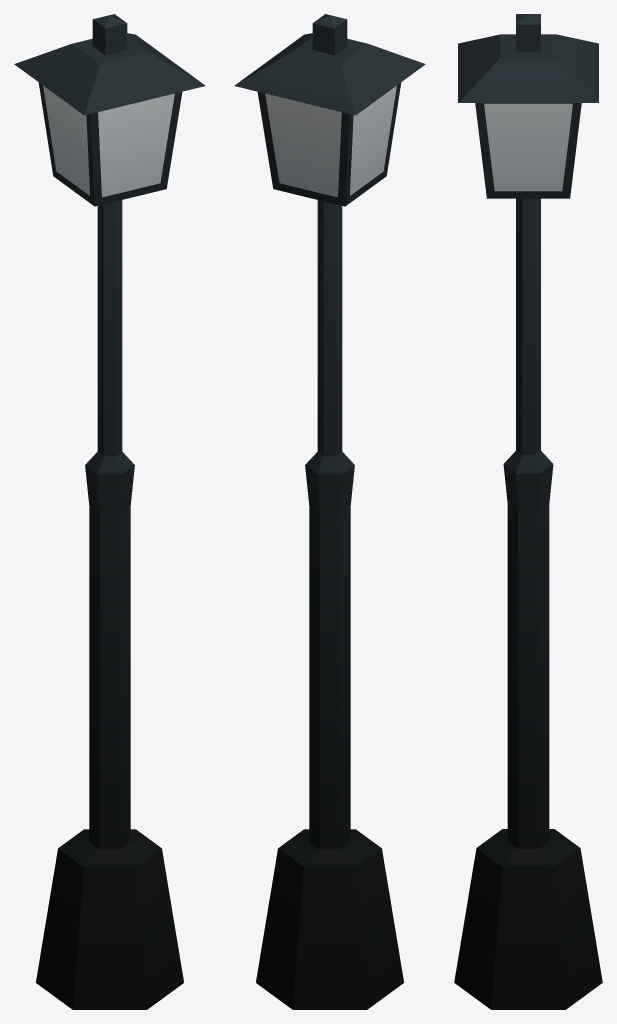
Rendered from street_lamp_1.glb.
The picture shows the model from 3 angles, left to right: view 1: azimuth 30°, elevation 25°; view 2: azimuth 150°, elevation 25°; view 3: azimuth 270°, elevation 25°; orthographic projection.
Visible parts, largest first — view 1: street_lamp_1; view 2: street_lamp_1; view 3: street_lamp_1.
Boxes of the visible parts, <box> form: street_lamp_1: <box>14,14,205,1009</box>; street_lamp_1: <box>234,14,425,1009</box>; street_lamp_1: <box>454,14,602,1009</box>.
Size of the model in its own units: 0.5678 by 4.31 by 0.6.
1 material, 1 textured.
